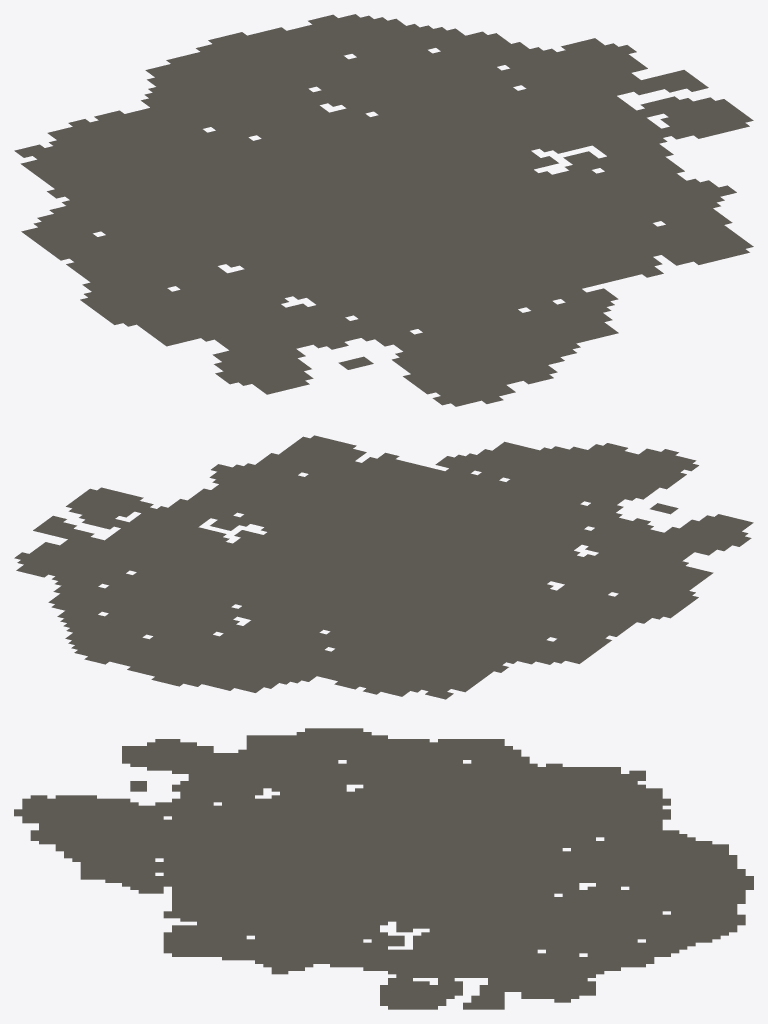
The model's file is Isl-rocky2-NoBuildArea.fbx.
3 views of the same model, one above another, from view 1: azimuth 30°, elevation 25°; view 2: azimuth 150°, elevation 25°; view 3: azimuth 270°, elevation 25° (orthographic). The views are drawn at different scales.
Parts seen in each view (by area): view 1: Isl-rocky2-NoBuildArea; view 2: Isl-rocky2-NoBuildArea; view 3: Isl-rocky2-NoBuildArea.
Part boxes in pixels (left/top/right/bottom): Isl-rocky2-NoBuildArea: left=14, top=14, right=753, bottom=406; Isl-rocky2-NoBuildArea: left=14, top=435, right=753, bottom=699; Isl-rocky2-NoBuildArea: left=14, top=728, right=753, bottom=1009.
Size of the model in its own units: 80 by 0 by 89.
